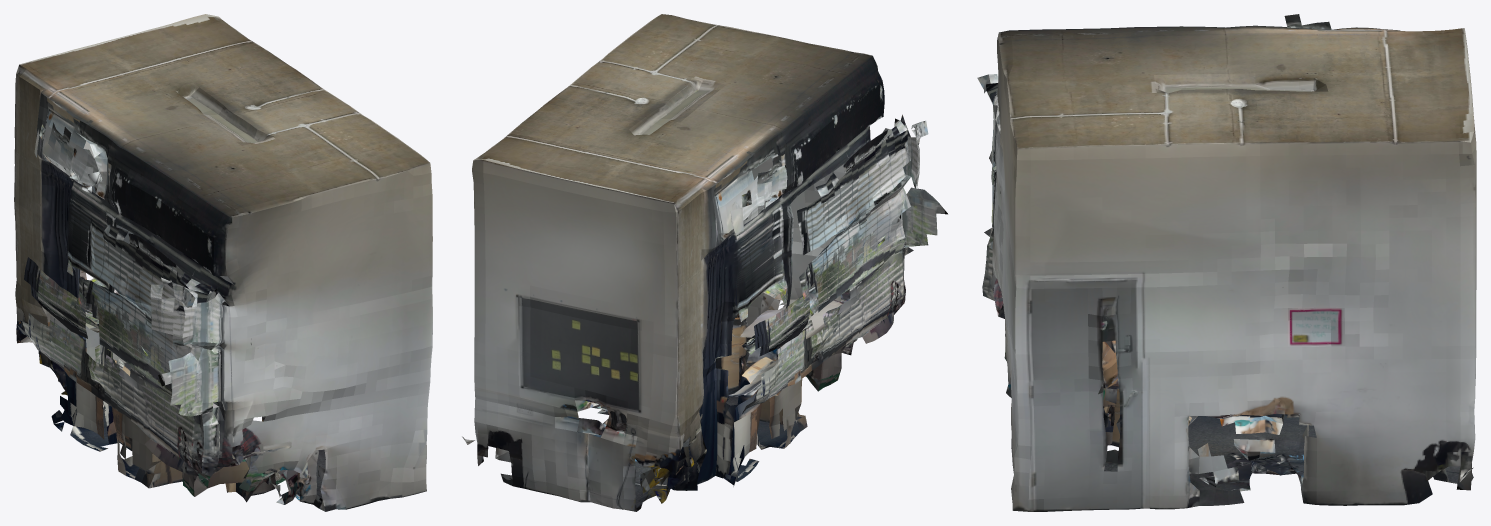
3 renders of one model, left to right at view 1: azimuth 30°, elevation 25°; view 2: azimuth 150°, elevation 25°; view 3: azimuth 270°, elevation 25°, orthographic. The views are drawn at different scales.
Parts seen in each view (by area): view 1: 3 M301B IM; view 2: 3 M301B IM; view 3: 3 M301B IM.
Part boxes in pixels (x1,y1,x2,y2): 3 M301B IM: (14,14,432,511); 3 M301B IM: (462,14,947,511); 3 M301B IM: (977,14,1476,511).
Size of the model in its own units: 291 by 319 by 389.
1 material, 1 textured.
